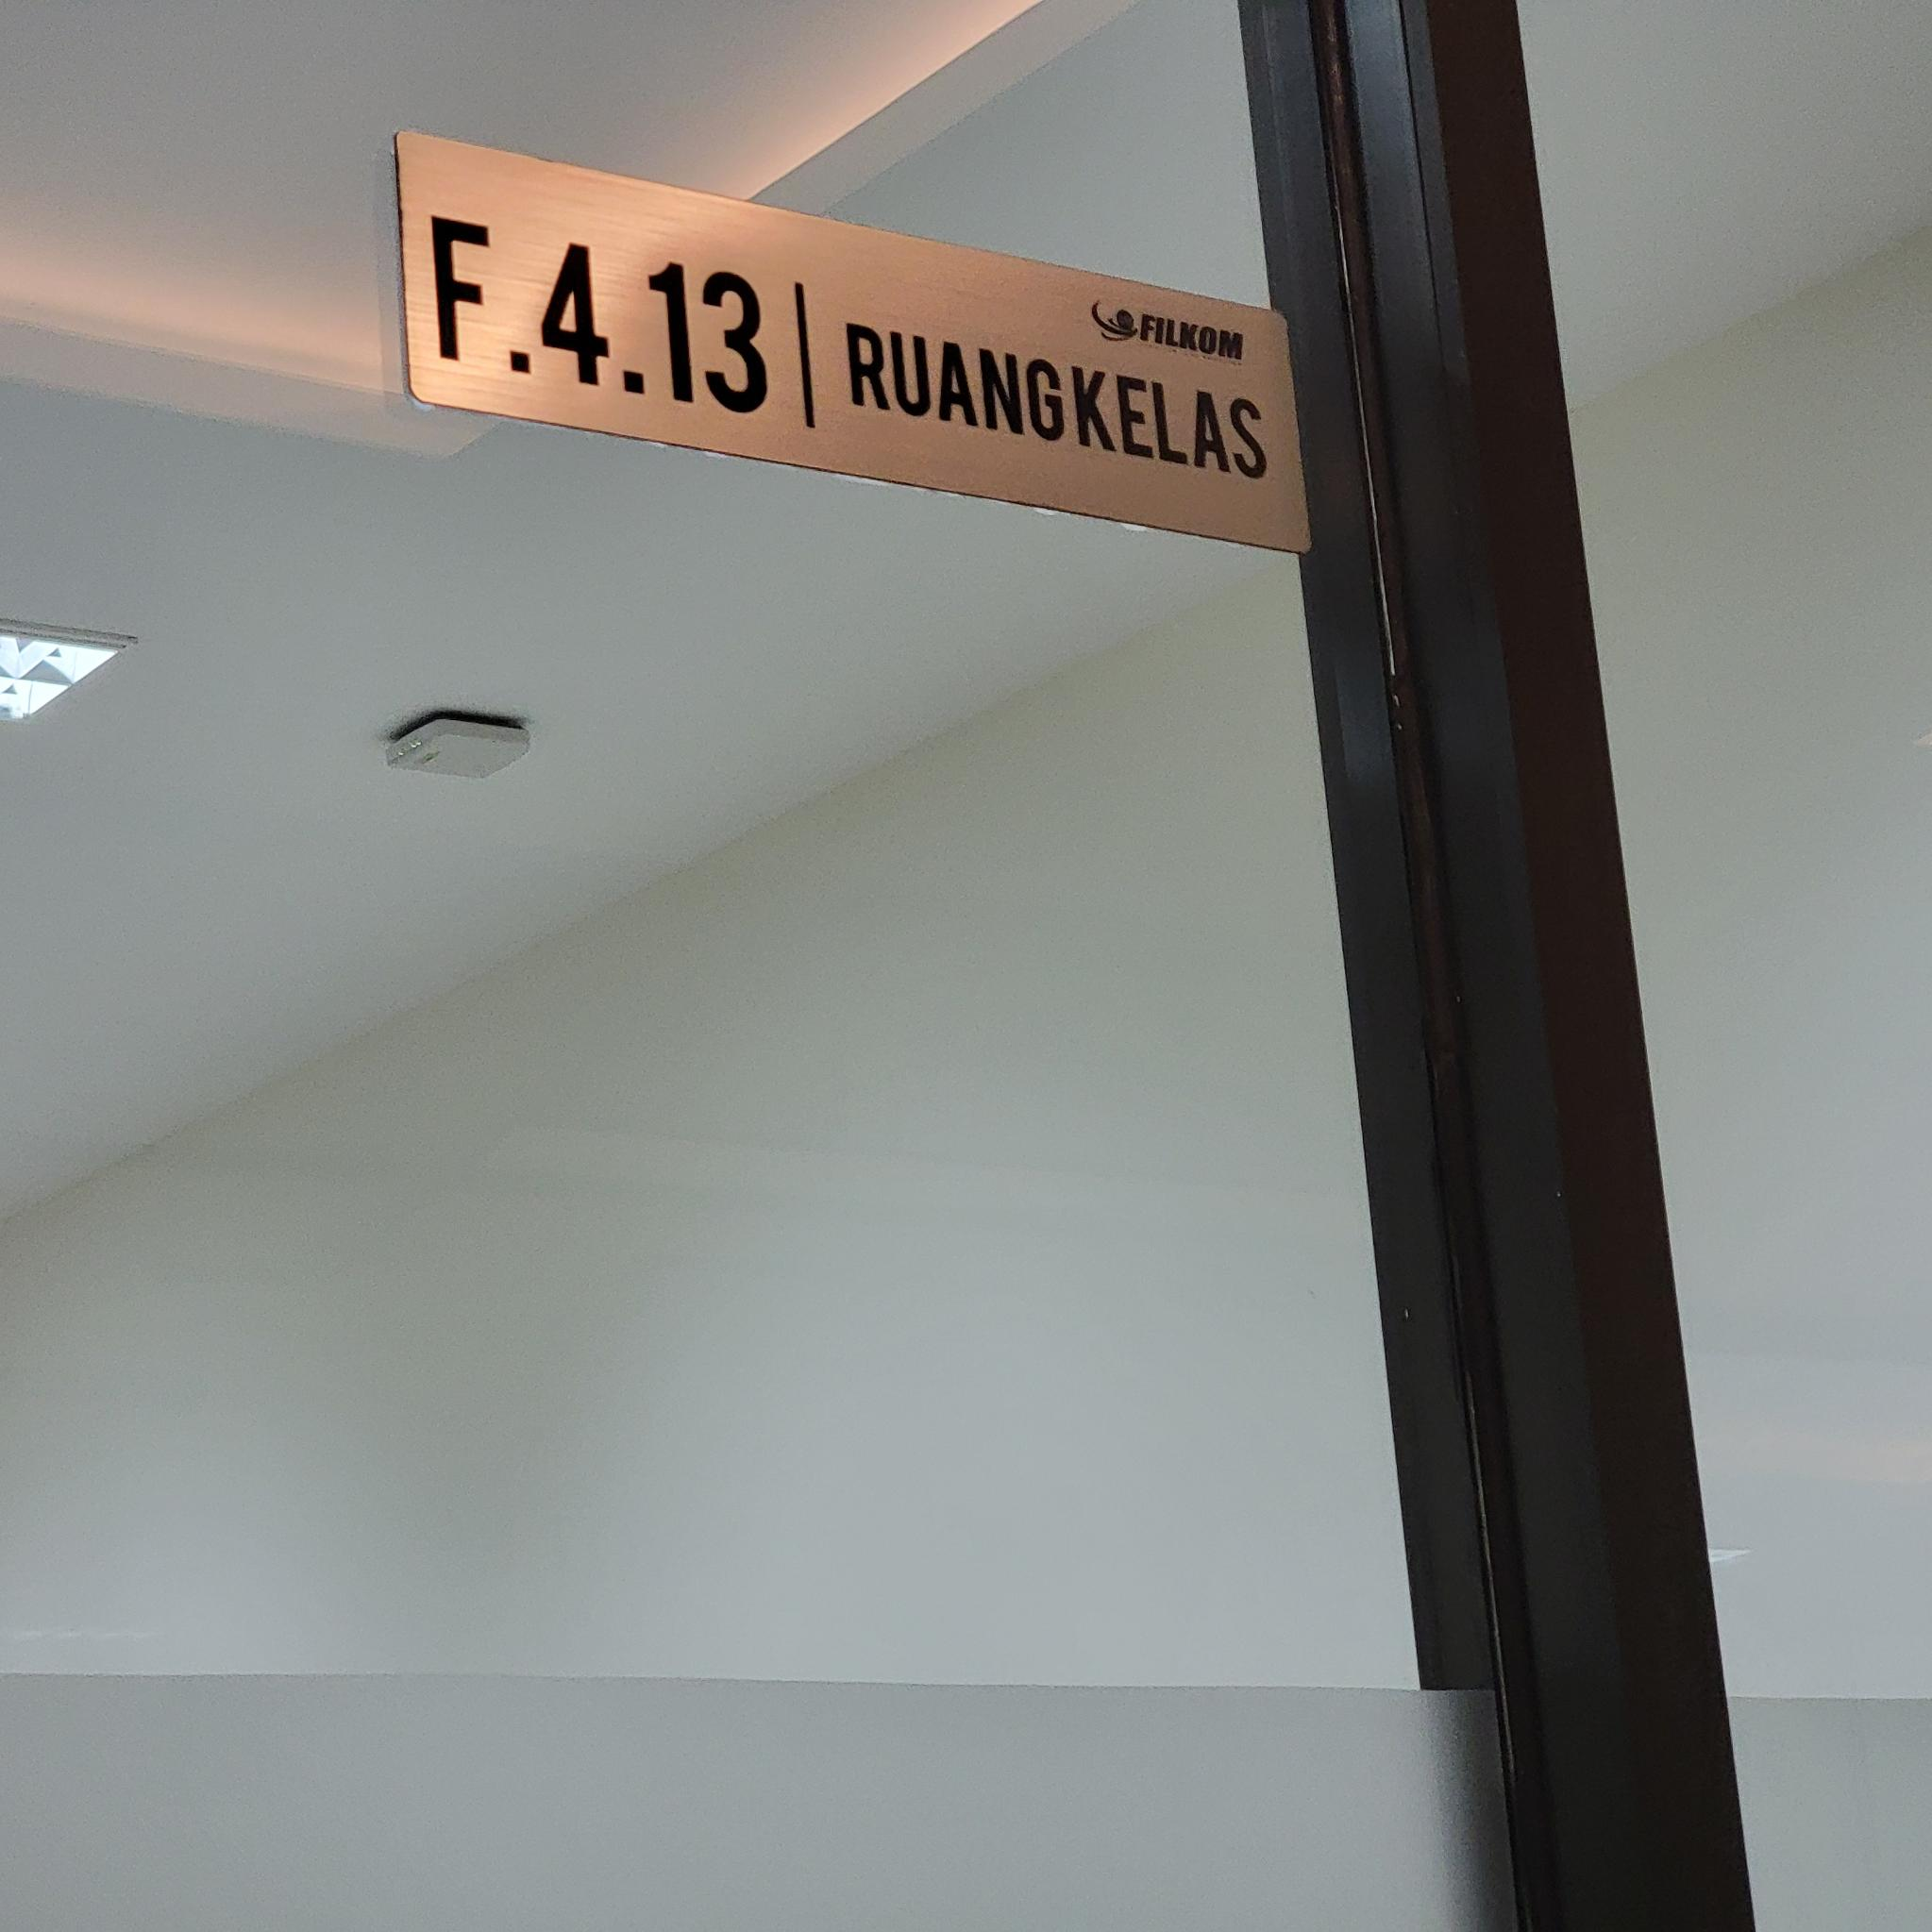plate: (395, 127, 1311, 556)
